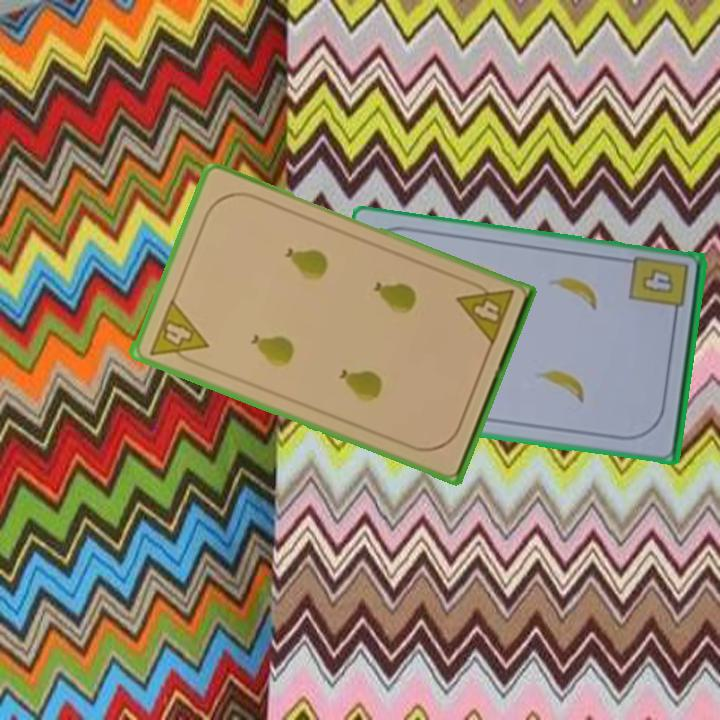4b: (627, 253, 691, 324)
4p: (145, 295, 210, 370), (453, 275, 517, 349)
